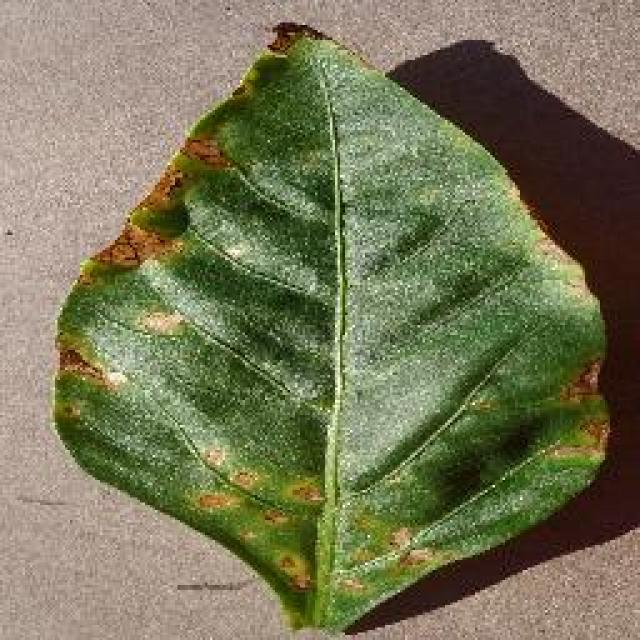Chilli_Bacterial_Spot: (45, 20, 617, 635), (188, 440, 440, 600), (540, 355, 612, 467), (128, 195, 192, 243), (262, 15, 328, 57), (178, 133, 232, 175), (270, 547, 315, 595), (135, 302, 187, 340), (283, 475, 325, 507), (190, 487, 238, 515), (225, 463, 263, 495), (50, 395, 82, 427), (383, 523, 415, 555), (258, 502, 292, 530), (198, 442, 228, 472)
